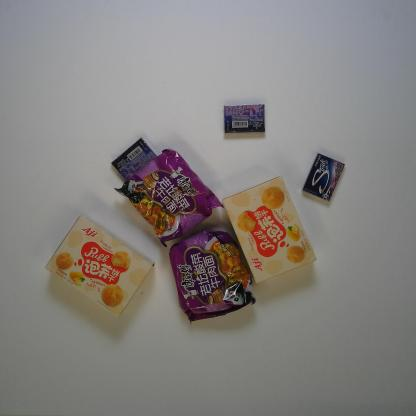Dessert: (44, 215, 155, 318), (222, 175, 317, 284)
Gum: (302, 153, 346, 202), (111, 138, 158, 182), (224, 104, 265, 133)
Instant Noodles: (113, 148, 225, 249), (168, 229, 256, 325)
